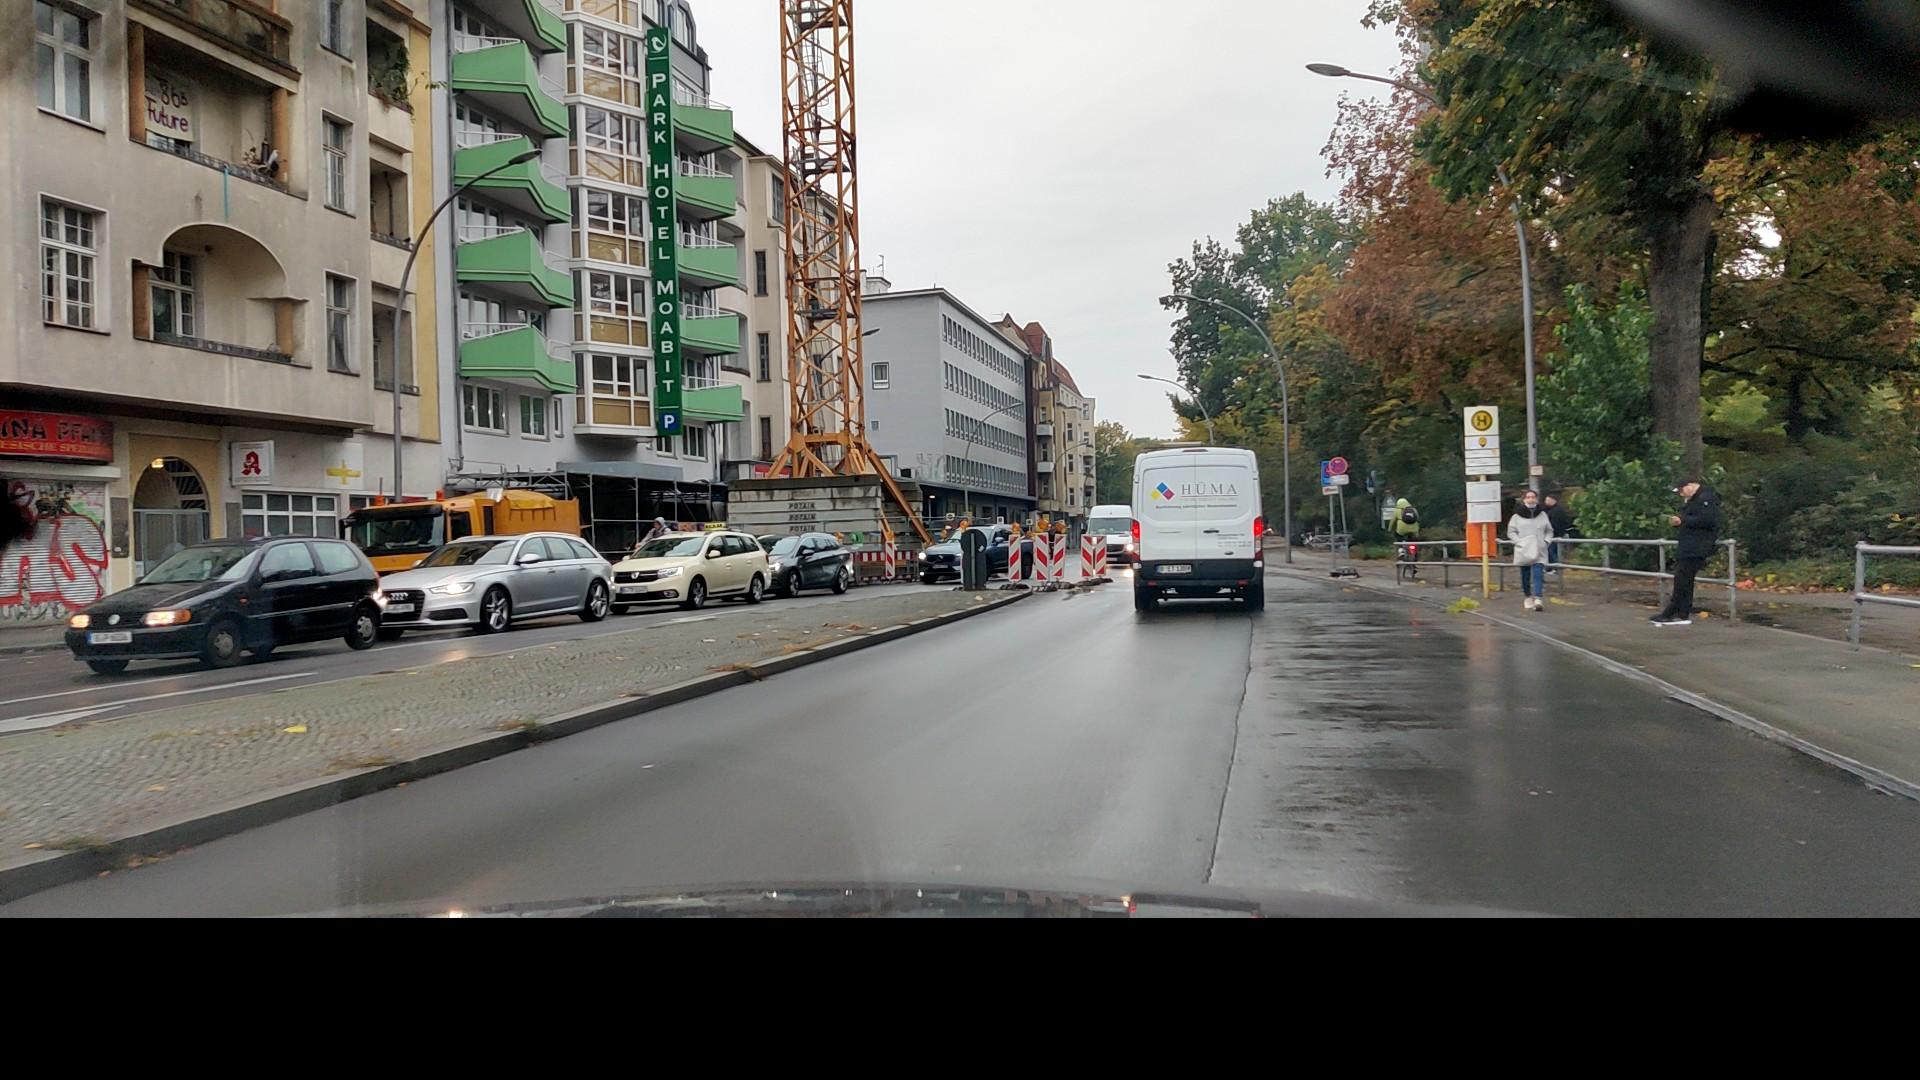Human face: (1674, 478, 1702, 498), (1523, 489, 1537, 508), (1544, 492, 1557, 508), (653, 517, 662, 530)
Vehicle registration plate: (85, 631, 131, 643), (1155, 563, 1193, 574), (620, 586, 647, 594), (384, 604, 413, 611)
